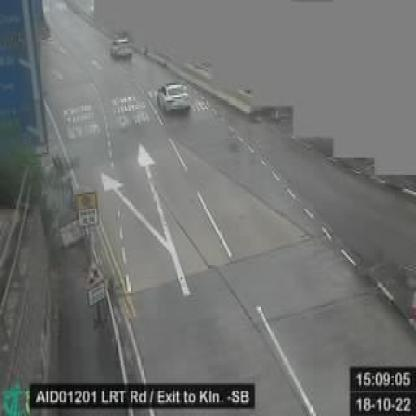Car: (157, 82, 192, 115), (109, 36, 133, 61)
